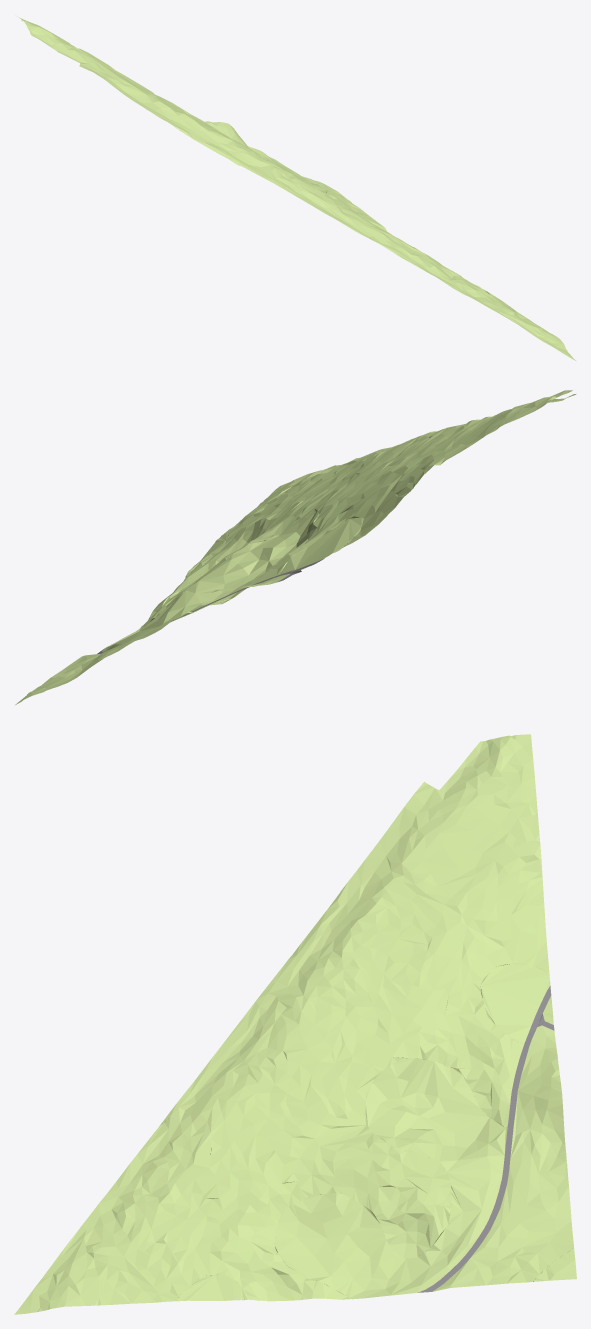
The picture shows the model from 3 angles, top to bottom: view 1: azimuth 30°, elevation 25°; view 2: azimuth 150°, elevation 25°; view 3: azimuth 270°, elevation 25°; orthographic projection. The views are drawn at different scales.
Size of the model in its own units: 214 by 161 by 228.
